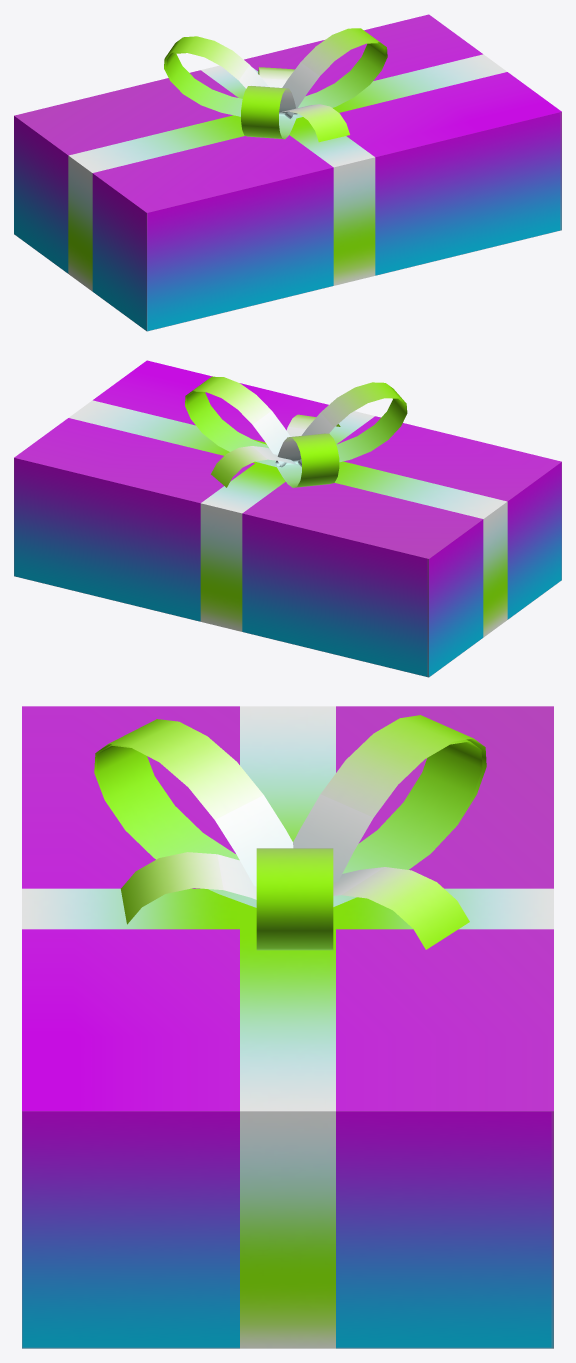
The model's file is Gift_01.FBX.
3 renders of one model, top to bottom at view 1: azimuth 30°, elevation 25°; view 2: azimuth 150°, elevation 25°; view 3: azimuth 270°, elevation 25°, orthographic. The views are drawn at different scales.
Visible parts, largest first — view 1: Gift_01; view 2: Gift_01; view 3: Gift_01.
Boxes of the visible parts, bbox=[...] form: Gift_01: bbox=[14, 14, 561, 331]; Gift_01: bbox=[14, 360, 561, 677]; Gift_01: bbox=[22, 706, 553, 1348].
Size of the model in its own units: 145 by 59.53 by 80.66.
